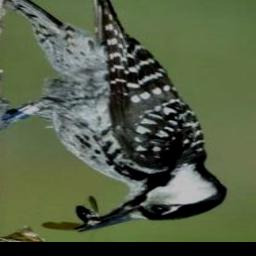Woodpecker: (0, 0, 225, 235)
